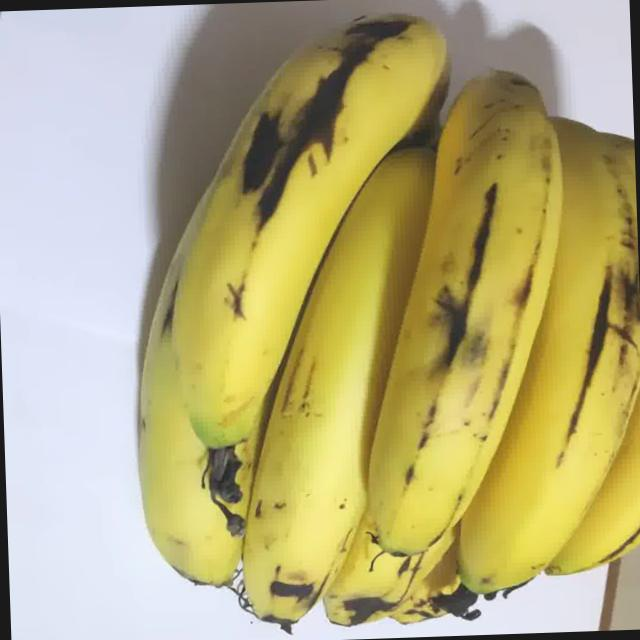banana_pacche: (106, 2, 640, 640)
